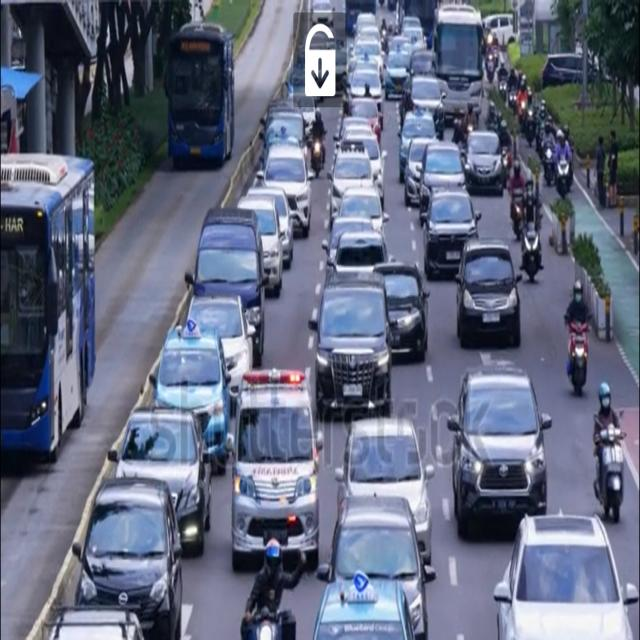Ambulance: (222, 360, 323, 573)
